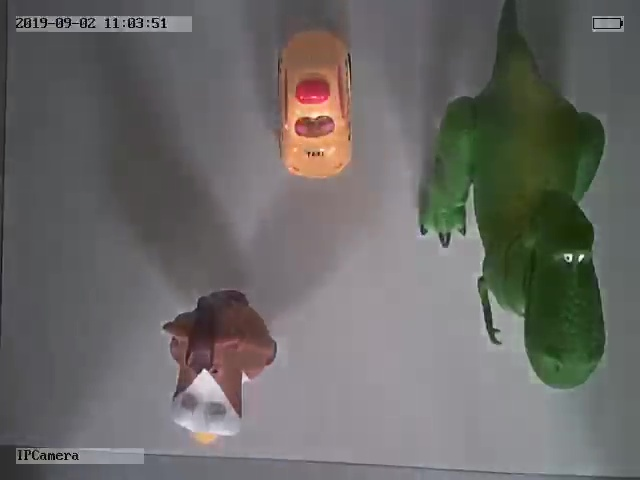car: (275, 26, 356, 179)
horse: (161, 289, 276, 446)
rex: (418, 14, 606, 391)
